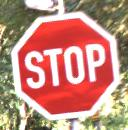Stop sign: (0, 0, 127, 129)
